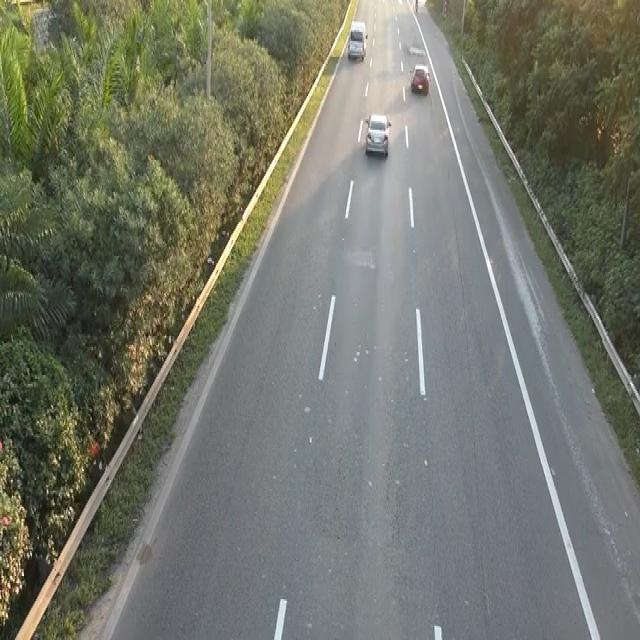bus: (361, 108, 394, 164), (410, 60, 430, 94)
jeep: (346, 18, 368, 62)
